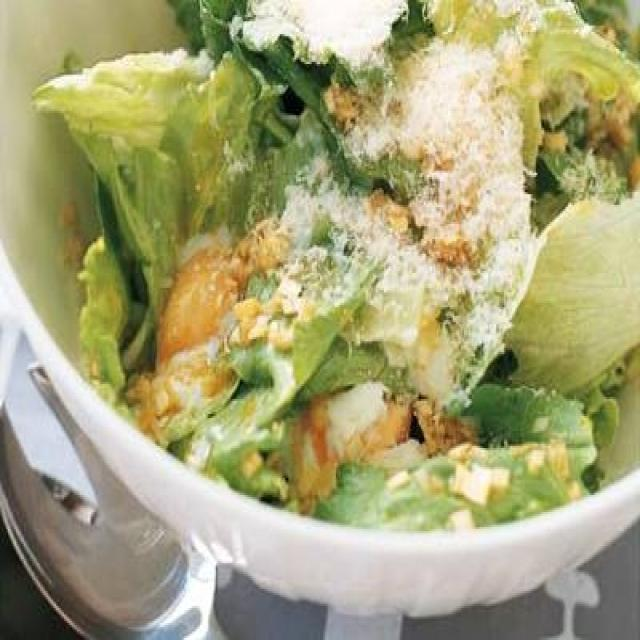蔬菜料理: (1, 4, 634, 619)
